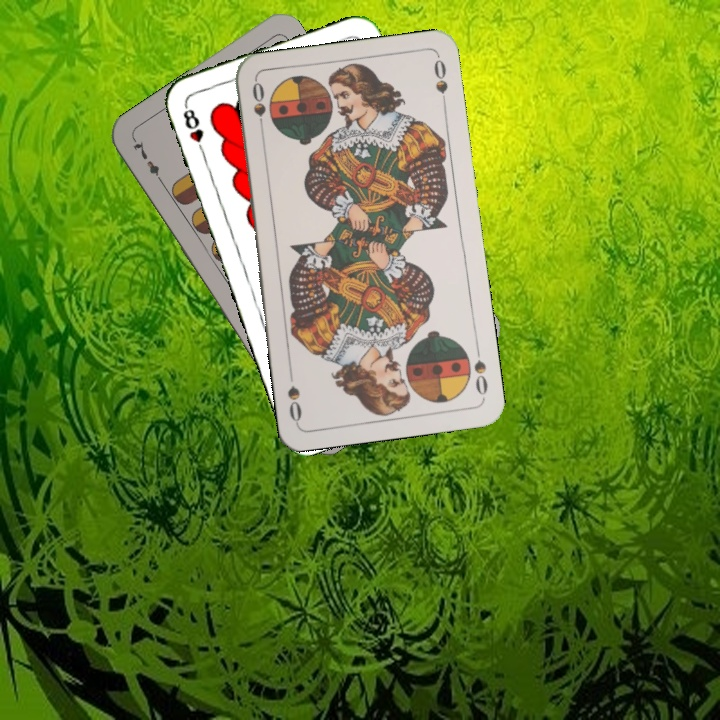E7: (129, 135, 167, 188)
H8: (179, 101, 208, 158)
SO: (469, 341, 490, 401), (248, 78, 268, 137)
